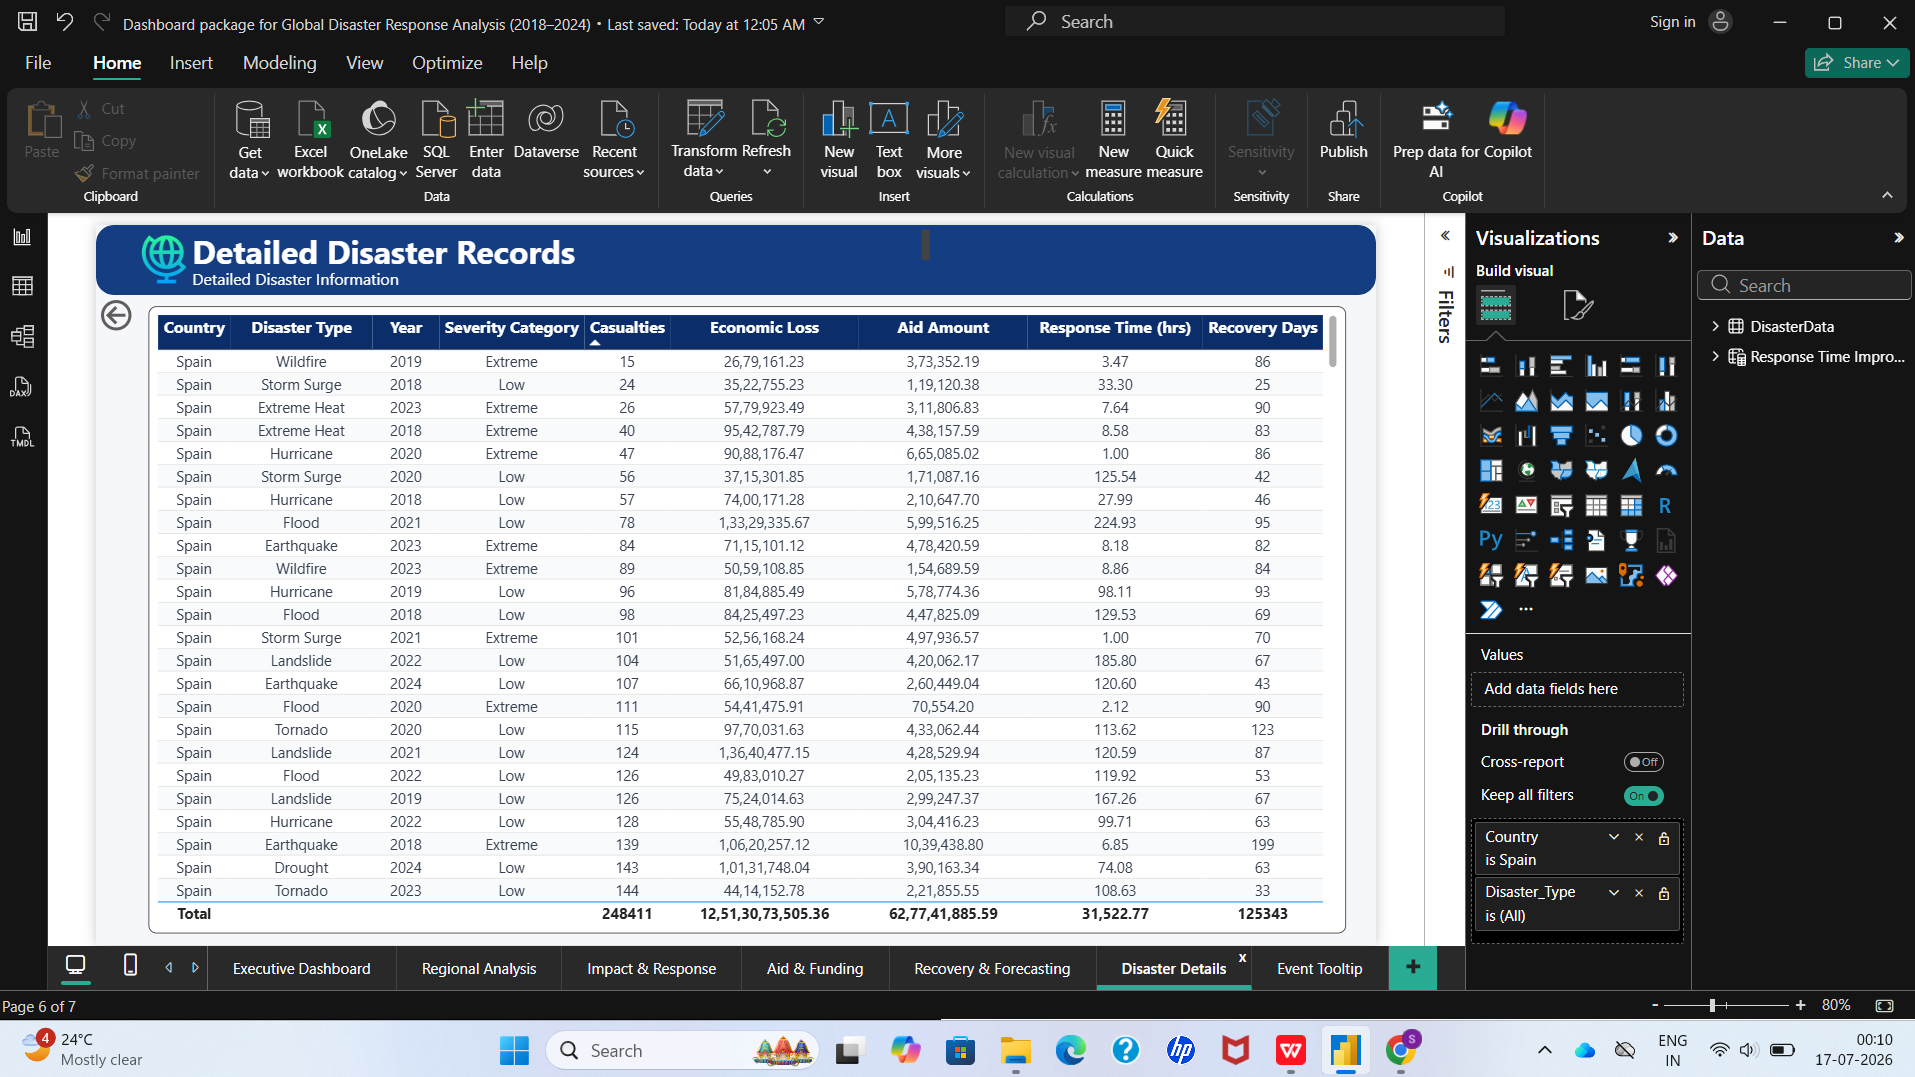

The dashboard page shown, as its layout file describes it:
{"tool":"powerbi","page":{"name":"Disaster Details","canvas":[1280,720],"ordinal":5},"visuals":[{"type":"tableEx","fields":{"Values":["DisasterData.Country","DisasterData.Disaster_Type","DisasterData.date.Variation.Date Hierarchy.Year","DisasterData.Severity Category","Sum(DisasterData.casualties)","Sum(DisasterData.economic_loss_usd)","Sum(DisasterData.aid_amount_usd)","Sum(DisasterData.response_time_hours)","Sum(DisasterData.recovery_days)"]},"box":[52.3,81,1198,627.1],"z":0},{"type":"actionButton","box":[0,69.9,62.6,40.5],"z":1000},{"type":"shape","box":[0,0,1280,70],"z":2000},{"type":"image","box":[43.8,0,48.8,68.8],"z":3000},{"type":"textbox","box":[91.4,0,747.3,45.7],"z":4000},{"type":"textbox","box":[91.4,37.9,432.4,31.4],"z":5000}]}

Visuals, with their boxes on the page's 1280x720 design canvas (x1, y1, x2, y2). These are canvas units, not pixel positions in the 1915x1077 screenshot, which may show the page scaled, cropped or inside an application window:
tableEx - DisasterData.Country x DisasterData.Disaster_Type: bbox=[52, 81, 1250, 708]
actionButton: bbox=[0, 70, 63, 110]
shape: bbox=[0, 0, 1280, 70]
image: bbox=[44, 0, 93, 69]
textbox: bbox=[91, 0, 839, 46]
textbox: bbox=[91, 38, 524, 69]
